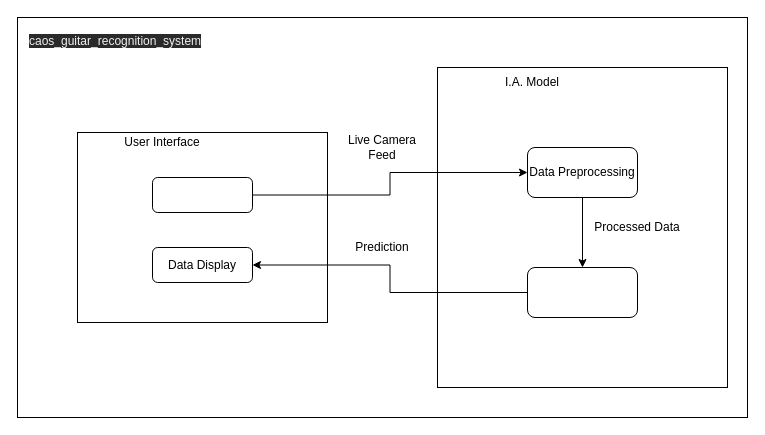
The diagram is 765 pixels wide and 435 high, and some of its shapes have lost their labels. Here are the shapes that lost their labels. From the top down, the box of each, then its label:
(152, 176, 252, 212): Data Acquisition
(526, 266, 638, 318): Trained Model
